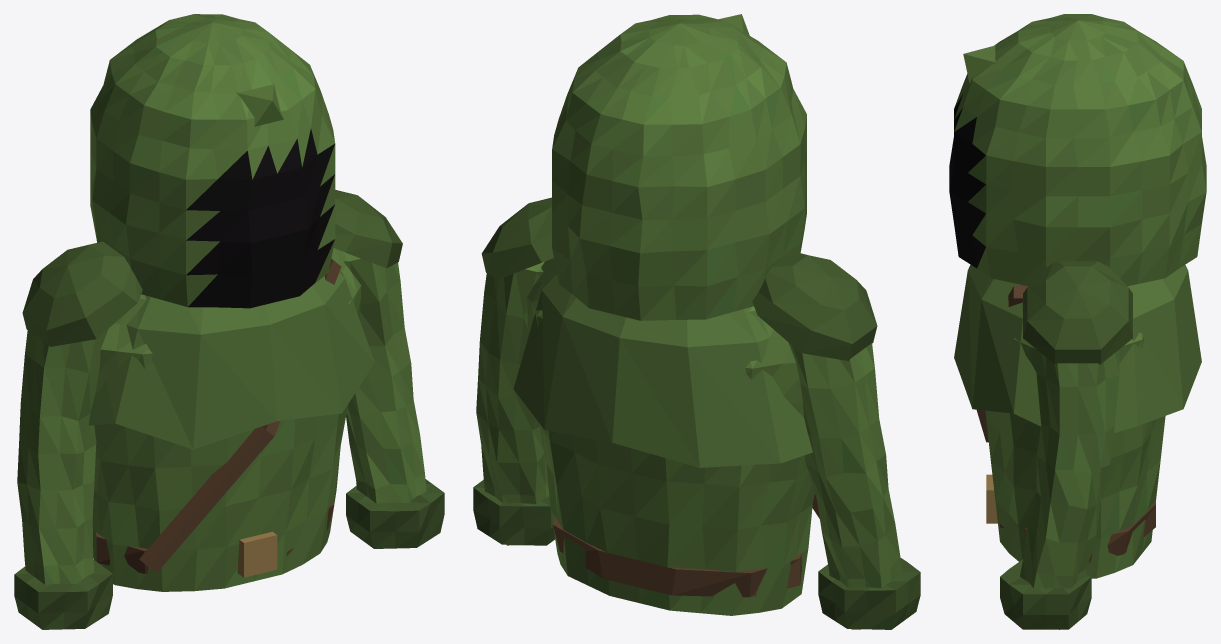
The model's file is B07_1_woodland_ranger_tunic.obj.
The picture shows the model from 3 angles, left to right: view 1: azimuth 30°, elevation 25°; view 2: azimuth 150°, elevation 25°; view 3: azimuth 270°, elevation 25°; orthographic projection. The views are drawn at different scales.
Parts seen in each view (by area): view 1: B07_1_woodland_ranger_tunic; view 2: B07_1_woodland_ranger_tunic; view 3: B07_1_woodland_ranger_tunic.
Part boxes in pixels (x1,y1,x2,y2): B07_1_woodland_ranger_tunic: [14, 14, 444, 629]; B07_1_woodland_ranger_tunic: [473, 14, 920, 629]; B07_1_woodland_ranger_tunic: [949, 14, 1206, 629].
Bounding box in the file's own units: 98 × 125 × 56.
